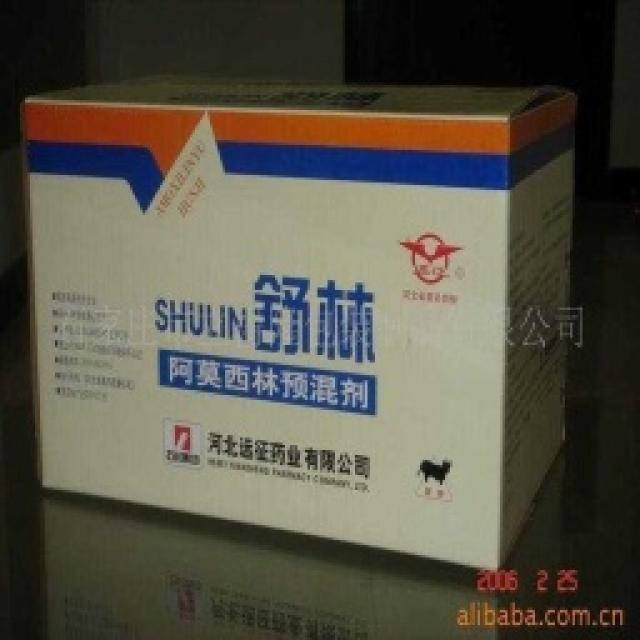box: (20, 68, 588, 568)
